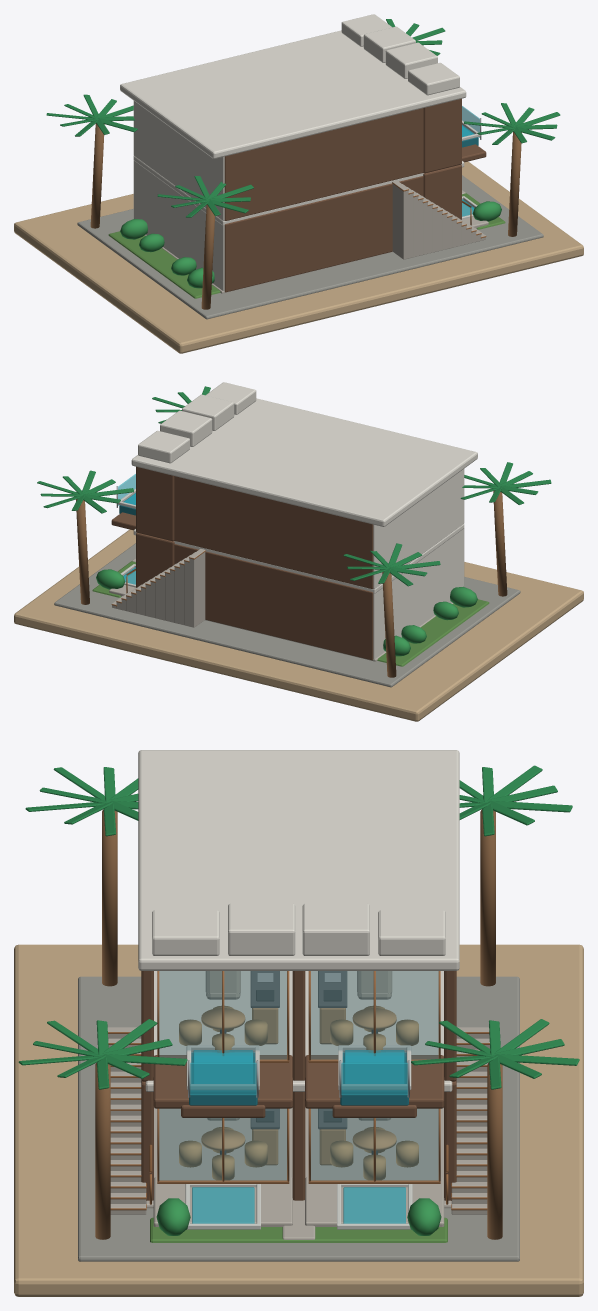
The model's file is sopro-v2.glb.
3 renders of one model, top to bottom at view 1: azimuth 30°, elevation 25°; view 2: azimuth 150°, elevation 25°; view 3: azimuth 270°, elevation 25°, orthographic. The views are drawn at different scales.
Visible parts, largest first — view 1: ARCH_Roof, SITE_SandBase, ARCH_SideWall_Upper_-3.30, ARCH_SideWall_Ground_-3.30, SITE_Paving, ARCH_BackWall_Ground, ARCH_BackWall_Upper, FACADE_Fin_Upper_-3.32, FACADE_Fin_Ground_-3.32, SITE_BackGarden, STAIR_Left_step_17, FACADE_Crown_0 (+9 smaller); view 2: ARCH_Roof, SITE_SandBase, ARCH_SideWall_Upper_+3.30, ARCH_SideWall_Ground_+3.30, SITE_Paving, ARCH_BackWall_Ground, ARCH_BackWall_Upper, FACADE_Fin_Upper_+3.32, FACADE_Fin_Ground_+3.32, SITE_BackGarden, STAIR_Right_step_17, FACADE_Crown_3 (+9 smaller); view 3: SITE_SandBase, ARCH_Roof, SITE_Paving, ARCH_UpperSlab, FACADE_U_Right_glass, FACADE_U_Left_glass, ARCH_Foundation, FACADE_G_Left_glass, FACADE_G_Right_glass, TERRACE_Ground_Left, TERRACE_Ground_Right, SITE_FrontGarden (+37 smaller).
Boxes of the visible parts, x1,y1,x2,y2 form: ARCH_Roof: (120,30,466,158); SITE_SandBase: (14,161,583,353); ARCH_SideWall_Upper_-3.30: (224,108,423,220); ARCH_SideWall_Ground_-3.30: (224,176,423,292); SITE_Paving: (77,175,543,319); ARCH_BackWall_Ground: (133,160,224,291); ARCH_BackWall_Upper: (133,101,224,220); FACADE_Fin_Upper_-3.32: (423,98,461,173); FACADE_Fin_Ground_-3.32: (423,164,461,219); SITE_BackGarden: (108,231,220,298); STAIR_Left_step_17: (392,180,408,259); FACADE_Crown_0: (408,62,459,95); ARCH_Roof: (131,398,477,526); SITE_SandBase: (14,529,583,721); ARCH_SideWall_Upper_+3.30: (174,476,373,588); ARCH_SideWall_Ground_+3.30: (174,544,373,660); SITE_Paving: (54,543,520,687); ARCH_BackWall_Ground: (373,528,464,659); ARCH_BackWall_Upper: (373,469,464,588); FACADE_Fin_Upper_+3.32: (136,466,174,541); FACADE_Fin_Ground_+3.32: (136,532,174,587); SITE_BackGarden: (377,599,489,666); STAIR_Right_step_17: (189,548,205,627); FACADE_Crown_3: (138,430,189,463); SITE_SandBase: (14,944,583,1296); ARCH_Roof: (138,750,459,970); SITE_Paving: (78,976,519,1261); ARCH_UpperSlab: (145,971,452,1091); FACADE_U_Right_glass: (311,971,438,1059); FACADE_U_Left_glass: (159,971,286,1059); ARCH_Foundation: (146,1107,451,1208); FACADE_G_Left_glass: (159,1109,286,1180); FACADE_G_Right_glass: (311,1109,438,1180); TERRACE_Ground_Left: (153,1177,292,1226); TERRACE_Ground_Right: (305,1177,444,1226); SITE_FrontGarden: (150,1217,447,1242).
Bounding box in the file's own units: 17.52 × 7.21 × 12.5.
